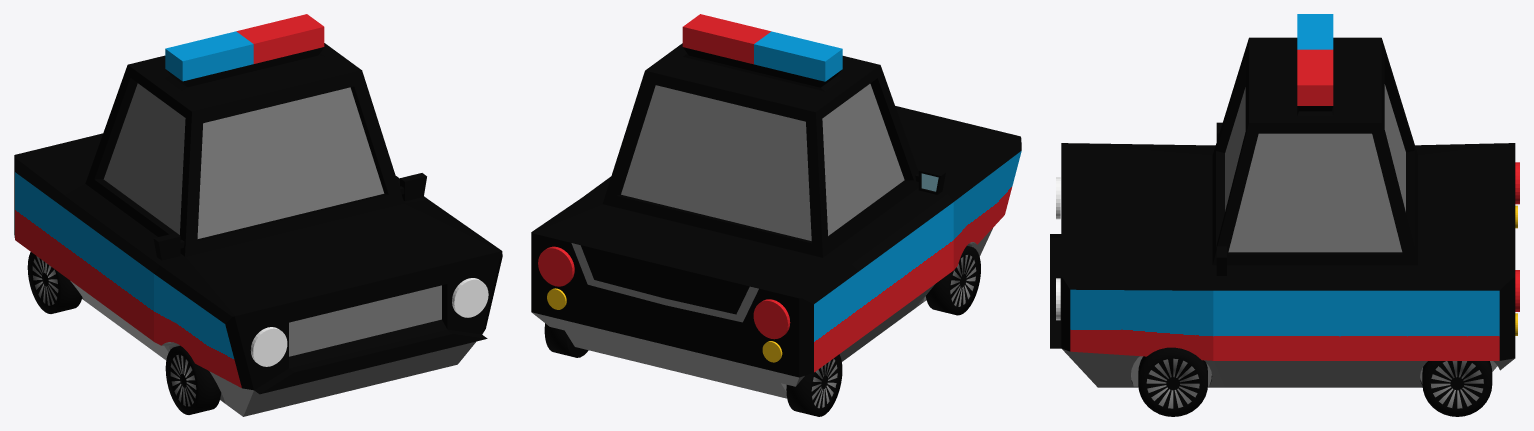
Rendered from copCar.fbx.
3 views of the same model, side by side, from view 1: azimuth 30°, elevation 25°; view 2: azimuth 150°, elevation 25°; view 3: azimuth 270°, elevation 25° (orthographic). The views are drawn at different scales.
Visible parts, largest first — view 1: Cube; view 2: Cube; view 3: Cube.
Part boxes in pixels (x1,y1,x2,y2): Cube: (14,14,502,416); Cube: (531,14,1021,416); Cube: (1050,14,1519,416).
Bounding box in the file's own units: 195 × 195 × 275.
